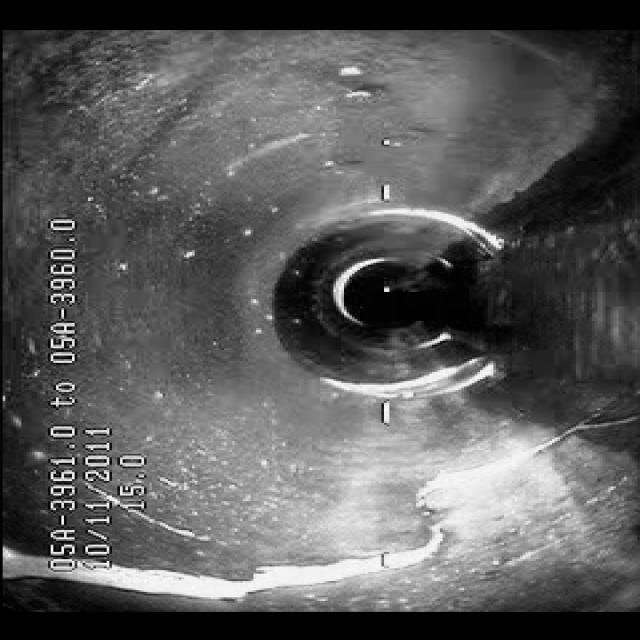Fracture: (212, 435, 589, 600)
